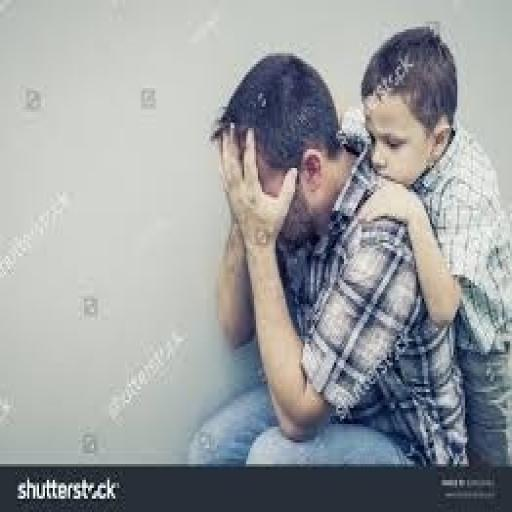hugging: (201, 22, 510, 470)
